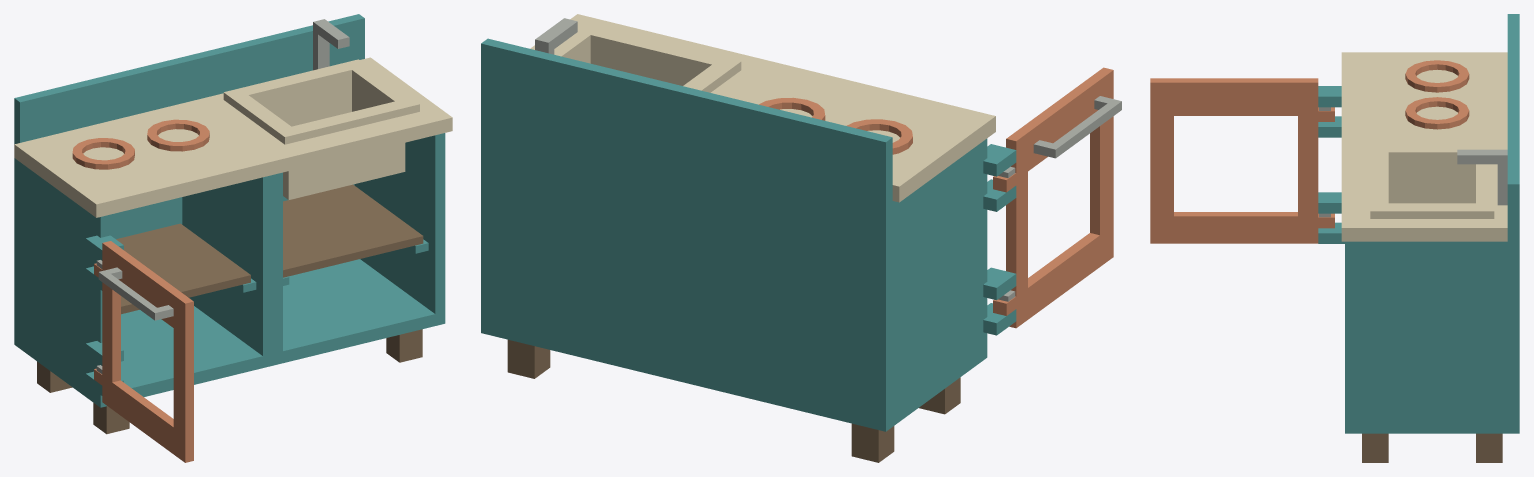
3 views of the same model, side by side, from view 1: azimuth 30°, elevation 25°; view 2: azimuth 150°, elevation 25°; view 3: azimuth 270°, elevation 25° (orthographic). The views are drawn at different scales.
Parts seen in each view (by area): view 1: ContinuousSharedCabinet, PiercedContinuousCounter, IndependentThickBasin, FixedOpenWindowDoor, FiniteStorageShelf, FiniteOvenShelf, FixedAnnularCounterMark_1, FixedAnnularCounterMark_2, ContinuousOpenDoorHandle, SolidBlindDecorativeSpout, CompleteFoot_2_1, CompleteFoot_1_1 (+1 smaller); view 2: ContinuousSharedCabinet, PiercedContinuousCounter, FixedOpenWindowDoor, IndependentThickBasin, ContinuousOpenDoorHandle, CompleteFoot_1_2, CompleteFoot_2_2, FixedAnnularCounterMark_1, SolidBlindDecorativeSpout, CompleteFoot_1_1, FixedAnnularCounterMark_2; view 3: ContinuousSharedCabinet, PiercedContinuousCounter, FixedOpenWindowDoor, IndependentThickBasin, FixedAnnularCounterMark_1, FixedAnnularCounterMark_2, SolidBlindDecorativeSpout, CompleteFoot_2_1, CompleteFoot_2_2.
Part boxes in pixels (x1,y1,x2,y2): ContinuousSharedCabinet: (14, 14, 445, 407); PiercedContinuousCounter: (14, 57, 452, 217); IndependentThickBasin: (223, 59, 419, 199); FixedOpenWindowDoor: (94, 241, 193, 462); FiniteStorageShelf: (283, 184, 423, 277); FiniteOvenShelf: (116, 223, 250, 314); FixedAnnularCounterMark_1: (72, 138, 134, 169); FixedAnnularCounterMark_2: (147, 119, 209, 151); ContinuousOpenDoorHandle: (98, 267, 173, 320); SolidBlindDecorativeSpout: (313, 19, 349, 70); CompleteFoot_2_1: (386, 329, 422, 362); CompleteFoot_1_1: (93, 403, 129, 434); ContinuousSharedCabinet: (481, 38, 1016, 431); PiercedContinuousCounter: (530, 14, 995, 202); FixedOpenWindowDoor: (993, 67, 1113, 328); IndependentThickBasin: (554, 22, 741, 92); ContinuousOpenDoorHandle: (1033, 96, 1121, 158); CompleteFoot_1_2: (851, 423, 894, 462); CompleteFoot_2_2: (507, 339, 550, 378); FixedAnnularCounterMark_1: (846, 119, 912, 154); SolidBlindDecorativeSpout: (535, 18, 577, 54); CompleteFoot_1_1: (919, 377, 960, 414); FixedAnnularCounterMark_2: (759, 97, 825, 120); ContinuousSharedCabinet: (1318, 14, 1519, 433); PiercedContinuousCounter: (1341, 52, 1507, 241); FixedOpenWindowDoor: (1150, 78, 1334, 243); IndependentThickBasin: (1370, 144, 1494, 218); FixedAnnularCounterMark_1: (1405, 60, 1469, 92); FixedAnnularCounterMark_2: (1405, 97, 1469, 129); SolidBlindDecorativeSpout: (1457, 149, 1507, 205); CompleteFoot_2_1: (1362, 433, 1388, 462); CompleteFoot_2_2: (1476, 433, 1502, 462).
Bounding box in the file's own units: 1.33 × 0.97 × 1.1.
